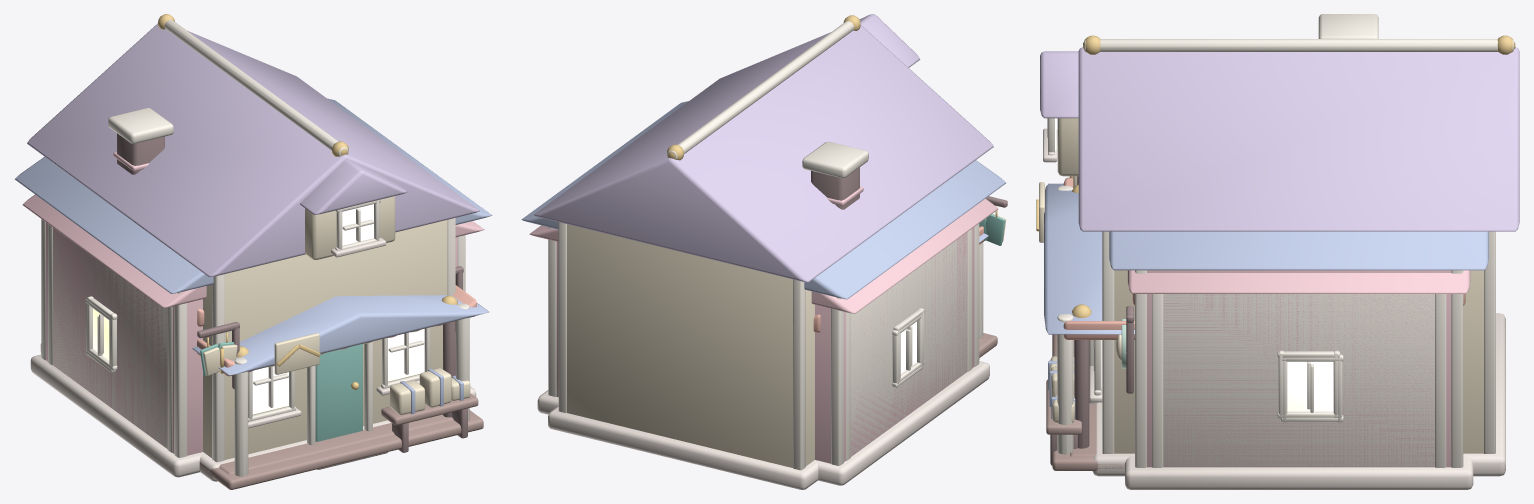
The model's file is thornvale-cottages.glb.
3 views of the same model, side by side, from view 1: azimuth 30°, elevation 25°; view 2: azimuth 150°, elevation 25°; view 3: azimuth 270°, elevation 25° (orthographic). The views are drawn at different scales.
Visible parts, largest first — view 1: Cottage_lavender_library__Roof_Lavender, Cottage_lavender_library__Wall_Vanilla, Cottage_rose_post_office__Roof_Periwinkle, Cottage_rose_post_office__Wall_Blush, Cottage_berry_bakery__Wall_Cream, Cottage_lavender_library__Trim_Cream, Cottage_rose_post_office__Trim_Cream, Cottage_rose_post_office__Wood_Cocoa, Cottage_lavender_library__Accent_Teal, Cottage_berry_bakery__Roof_Blush, Cottage_berry_bakery__Trim_Cream, Cottage_lavender_library__WindowGlow (+12 smaller); view 2: Cottage_lavender_library__Roof_Lavender, Cottage_lavender_library__Wall_Vanilla, Cottage_berry_bakery__Wall_Cream, Cottage_rose_post_office__Wall_Blush, Cottage_rose_post_office__Roof_Periwinkle, Cottage_lavender_library__Trim_Cream, Cottage_lavender_library__StoneLight, Cottage_rose_post_office__Trim_Cream, Cottage_berry_bakery__Trim_Cream, Cottage_berry_bakery__Roof_Blush, Cottage_rose_post_office__StoneLight, Cottage_berry_bakery__StoneLight (+2 smaller); view 3: Cottage_lavender_library__Roof_Lavender, Cottage_berry_bakery__Wall_Cream, Cottage_rose_post_office__Roof_Periwinkle, Cottage_rose_post_office__Wall_Blush, Cottage_lavender_library__Trim_Cream, Cottage_rose_post_office__Trim_Cream, Cottage_lavender_library__Wall_Vanilla, Cottage_berry_bakery__Roof_Blush, Cottage_berry_bakery__Trim_Cream, Cottage_berry_bakery__StoneLight, Cottage_rose_post_office__StoneLight, Cottage_lavender_library__StoneLight (+9 smaller).
Boxes of the visible parts, x1,y1,x2,y2 form: Cottage_lavender_library__Roof_Lavender: (27, 23, 479, 277); Cottage_lavender_library__Wall_Vanilla: (203, 196, 447, 459); Cottage_rose_post_office__Roof_Periwinkle: (14, 98, 492, 414); Cottage_rose_post_office__Wall_Blush: (46, 222, 457, 455); Cottage_berry_bakery__Wall_Cream: (53, 229, 167, 448); Cottage_lavender_library__Trim_Cream: (158, 19, 455, 462); Cottage_rose_post_office__Trim_Cream: (41, 219, 469, 476); Cottage_rose_post_office__Wood_Cocoa: (199, 393, 483, 489); Cottage_lavender_library__Accent_Teal: (200, 342, 362, 441); Cottage_berry_bakery__Roof_Blush: (22, 152, 484, 372); Cottage_berry_bakery__Trim_Cream: (48, 108, 173, 452); Cottage_lavender_library__WindowGlow: (252, 204, 424, 414); Cottage_lavender_library__Roof_Lavender: (534, 14, 993, 282); Cottage_lavender_library__Wall_Vanilla: (567, 224, 814, 467); Cottage_berry_bakery__Wall_Cream: (851, 232, 967, 455); Cottage_rose_post_office__Wall_Blush: (556, 227, 974, 463); Cottage_rose_post_office__Roof_Periwinkle: (521, 101, 1005, 299); Cottage_lavender_library__Trim_Cream: (558, 21, 854, 470); Cottage_lavender_library__StoneLight: (548, 358, 979, 489); Cottage_rose_post_office__Trim_Cream: (548, 223, 983, 465); Cottage_berry_bakery__Trim_Cream: (802, 141, 972, 460); Cottage_berry_bakery__Roof_Blush: (529, 186, 998, 313); Cottage_rose_post_office__StoneLight: (537, 361, 989, 485); Cottage_berry_bakery__StoneLight: (547, 367, 982, 476); Cottage_lavender_library__Roof_Lavender: (1040, 47, 1519, 231); Cottage_berry_bakery__Wall_Cream: (1163, 294, 1434, 466); Cottage_rose_post_office__Roof_Periwinkle: (1044, 183, 1488, 419); Cottage_rose_post_office__Wall_Blush: (1147, 270, 1451, 467); Cottage_lavender_library__Trim_Cream: (1047, 39, 1513, 453); Cottage_rose_post_office__Trim_Cream: (1057, 185, 1463, 467); Cottage_lavender_library__Wall_Vanilla: (1057, 118, 1483, 453); Cottage_berry_bakery__Roof_Blush: (1127, 270, 1470, 293); Cottage_berry_bakery__Trim_Cream: (1152, 14, 1446, 467); Cottage_berry_bakery__StoneLight: (1147, 467, 1451, 489); Cottage_rose_post_office__StoneLight: (1125, 456, 1473, 489); Cottage_lavender_library__StoneLight: (1043, 128, 1505, 476).
Bounding box in the file's own units: 6.74 × 6.23 × 7.41.
